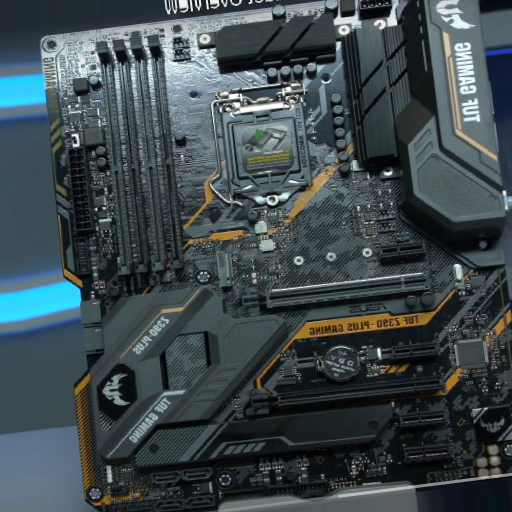CPU: (221, 83, 308, 207)
GPU: (244, 373, 444, 417), (234, 272, 430, 316)
MOTHERBOARD: (43, 1, 510, 512)
RAM: (98, 37, 188, 287)
SSD: (214, 250, 235, 289)
